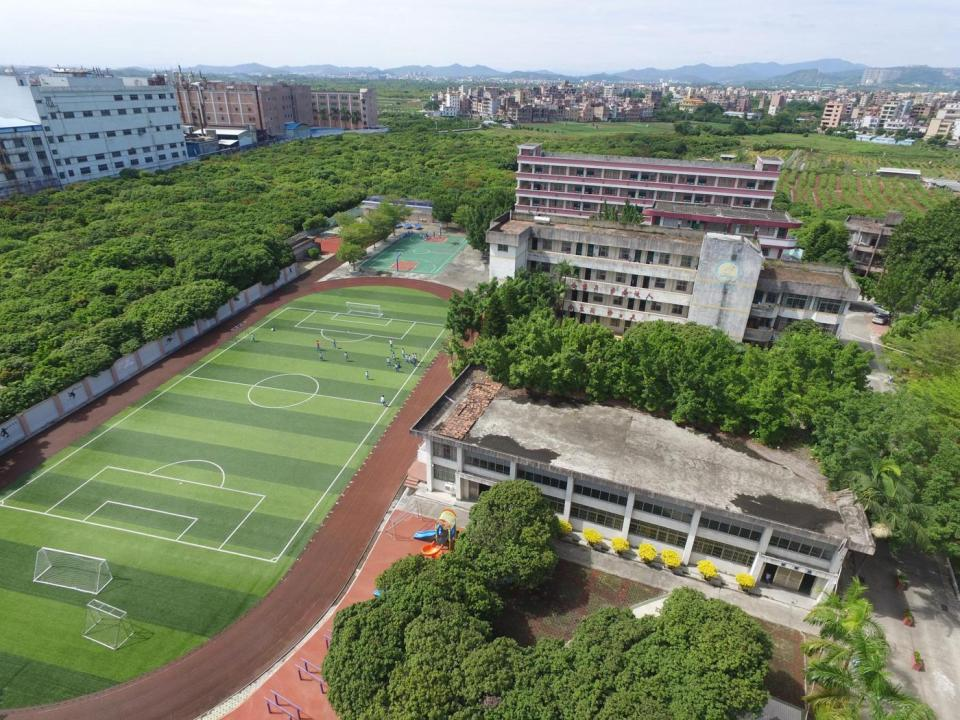car: (872, 304, 891, 315), (872, 313, 888, 325)
